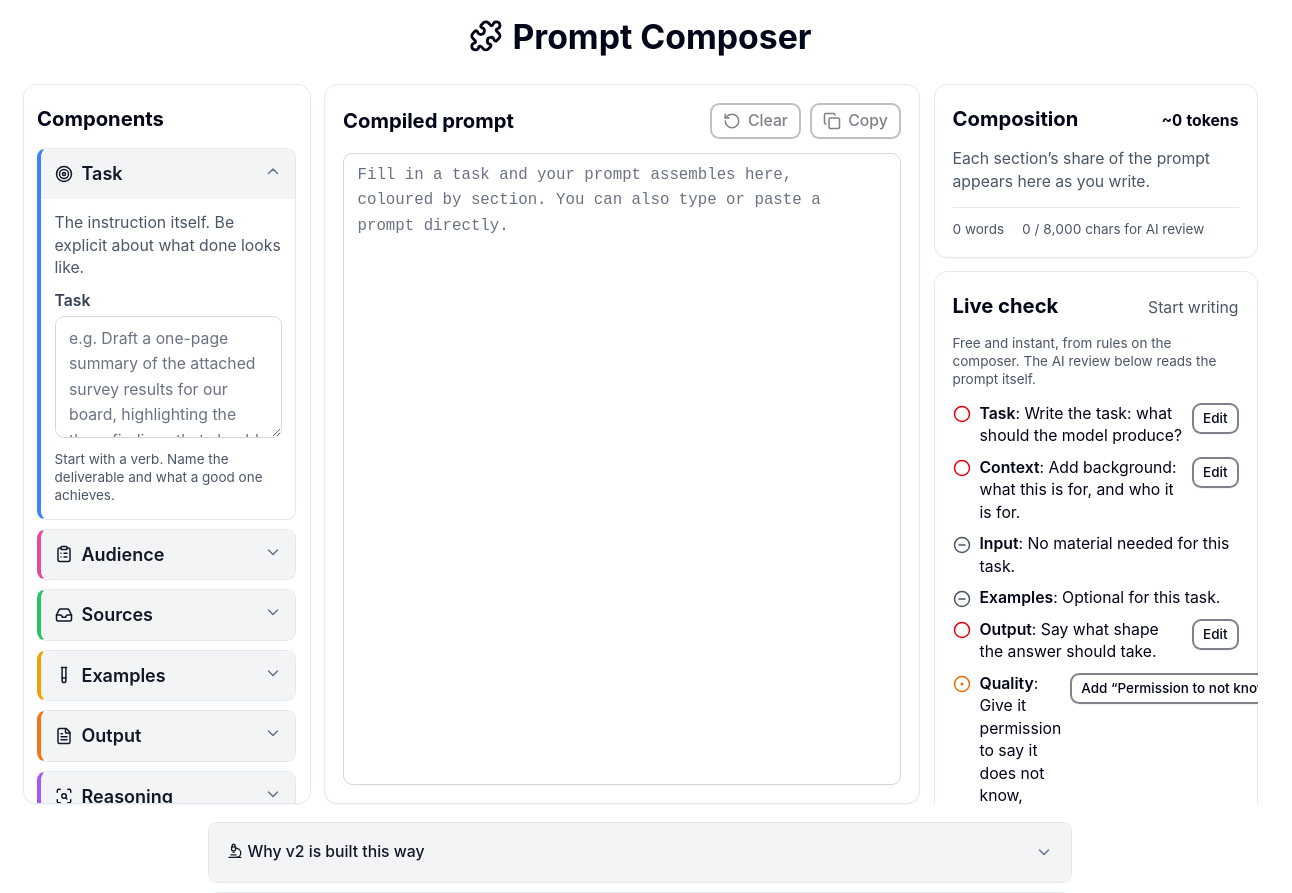
Test case: PromptComposer v2 › compiles the task as it is typed
The width and height of the screenshot is (1292, 893).
Replace the text in the text box labelled "Task" with "Summarize the quarterly report for the board" at (168, 377), box [54, 316, 282, 438]
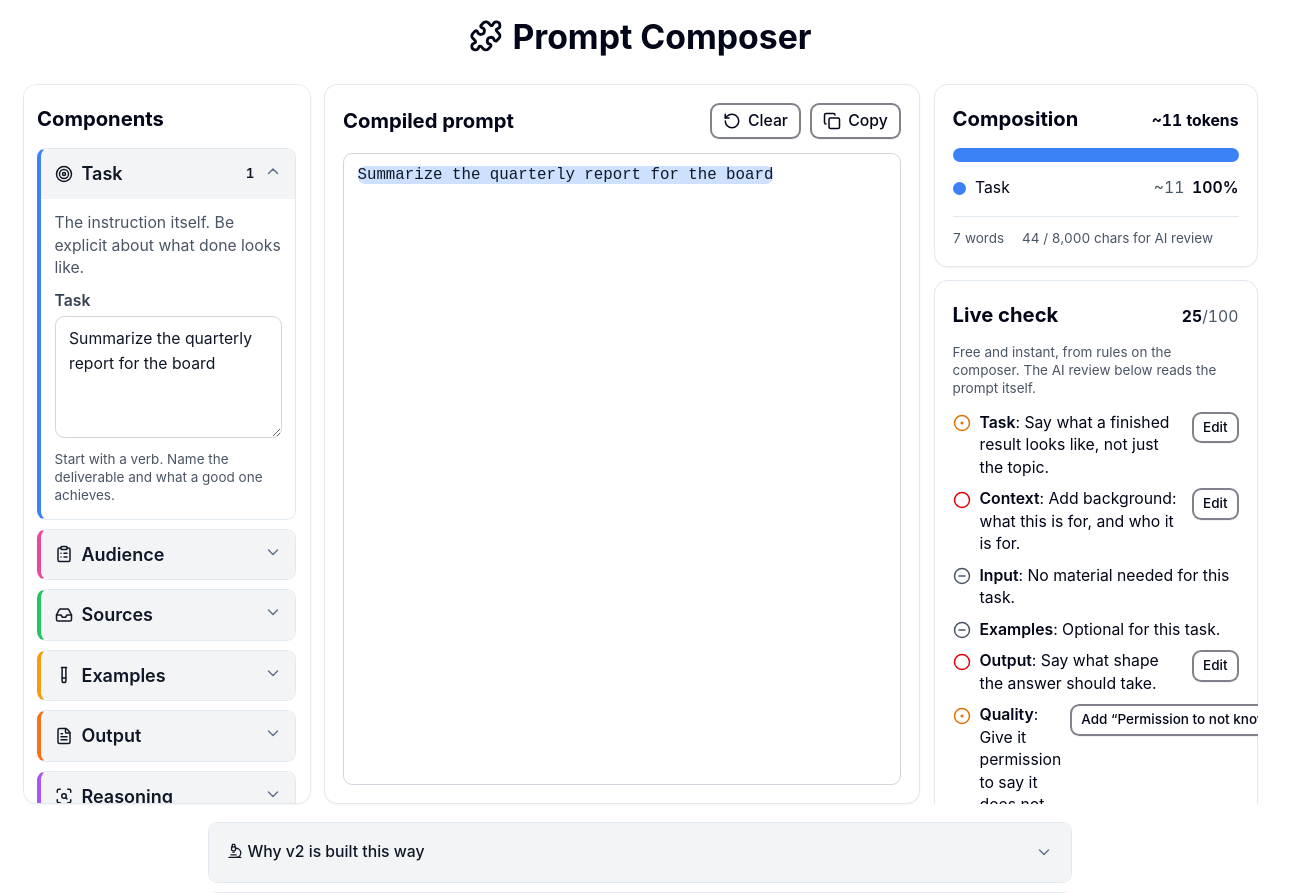
expect the text box labelled "Compiled prompt" holds "Summarize the quarterly report for the board": met, box [343, 152, 901, 785]
expect the button "Copy" is enabled: met, box [810, 103, 901, 139]
